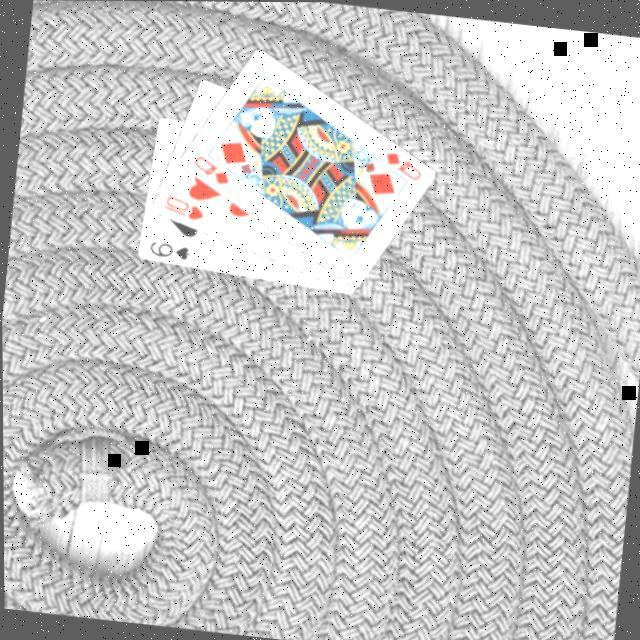10H: (158, 192, 209, 226)
6S: (146, 238, 193, 264)
QD: (379, 147, 426, 184), (189, 152, 234, 189)
